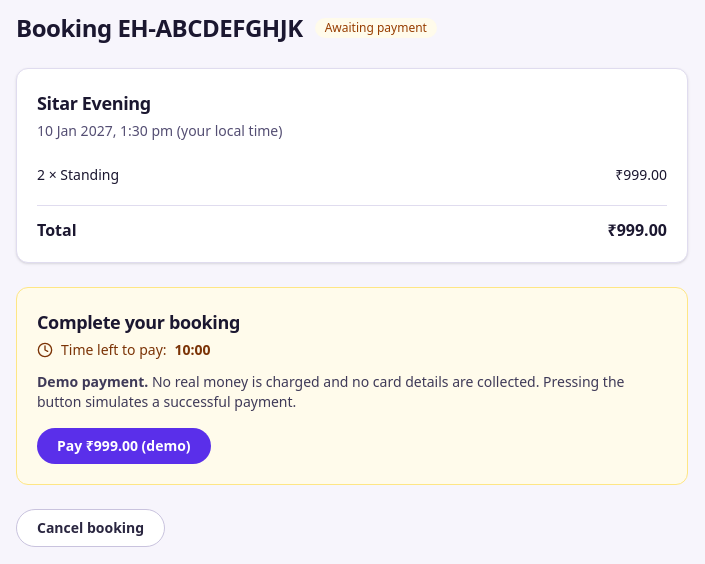
Test: BookingPage › pays with the demo payment and shows the confirmation
The image size is (705, 564).
Click the button "Pay ₹999.00 (demo)": (124, 446) [37,428,211,464]
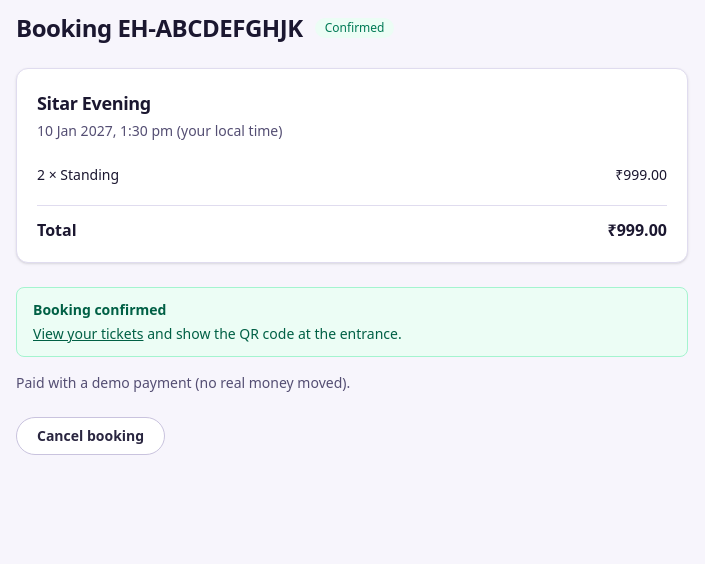
expect the text "Booking confirmed" is shown: met, box [33,300,166,319]
expect the text "Paid with a demo payment (no real money moved)." is shown: met, box [16,373,350,392]
expect the button "Pay ₹999.00 (demo)" is gone: met
